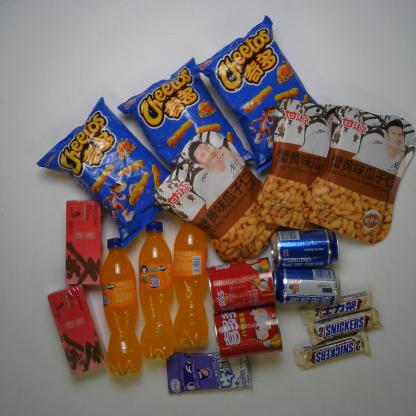Alcohol: (270, 229, 340, 269), (272, 267, 341, 306)
Candy: (166, 349, 253, 394)
Canned Food: (206, 256, 277, 314), (213, 304, 284, 360)
Chocolate: (292, 328, 372, 370), (308, 306, 383, 347), (301, 289, 374, 326)
Dried Fruit: (154, 130, 280, 263), (301, 104, 415, 245), (253, 96, 343, 232)
Drink: (100, 236, 142, 376), (138, 220, 176, 360), (173, 214, 209, 346)
Instant Drink: (48, 283, 108, 376), (66, 200, 104, 284)
Puffed Food: (35, 95, 180, 249), (189, 14, 326, 174), (117, 55, 259, 182)
